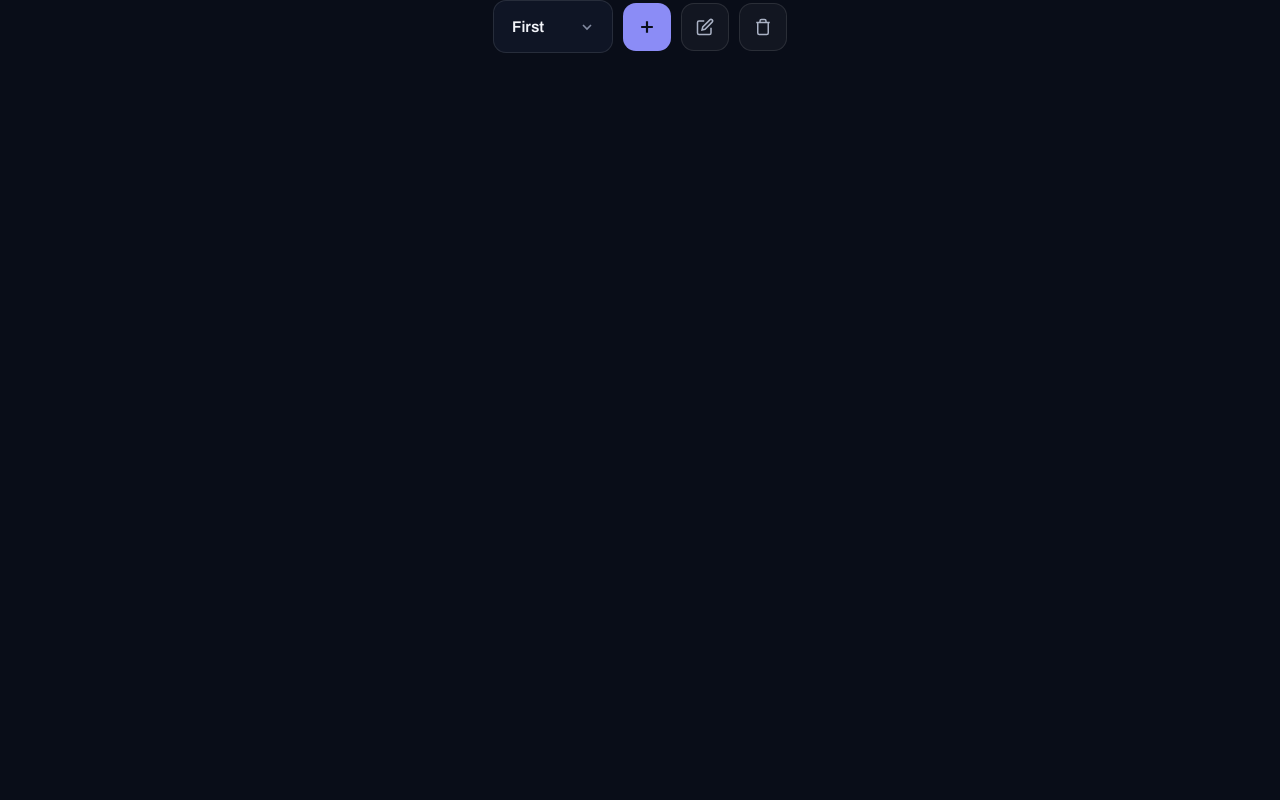
Test case: MatrixSelector › delete button opens confirmation modal when multiple matrices exist
Click the button with test id "delete-matrix-button".
click(763, 27)  # box x1=739 y1=3 x2=787 y2=51
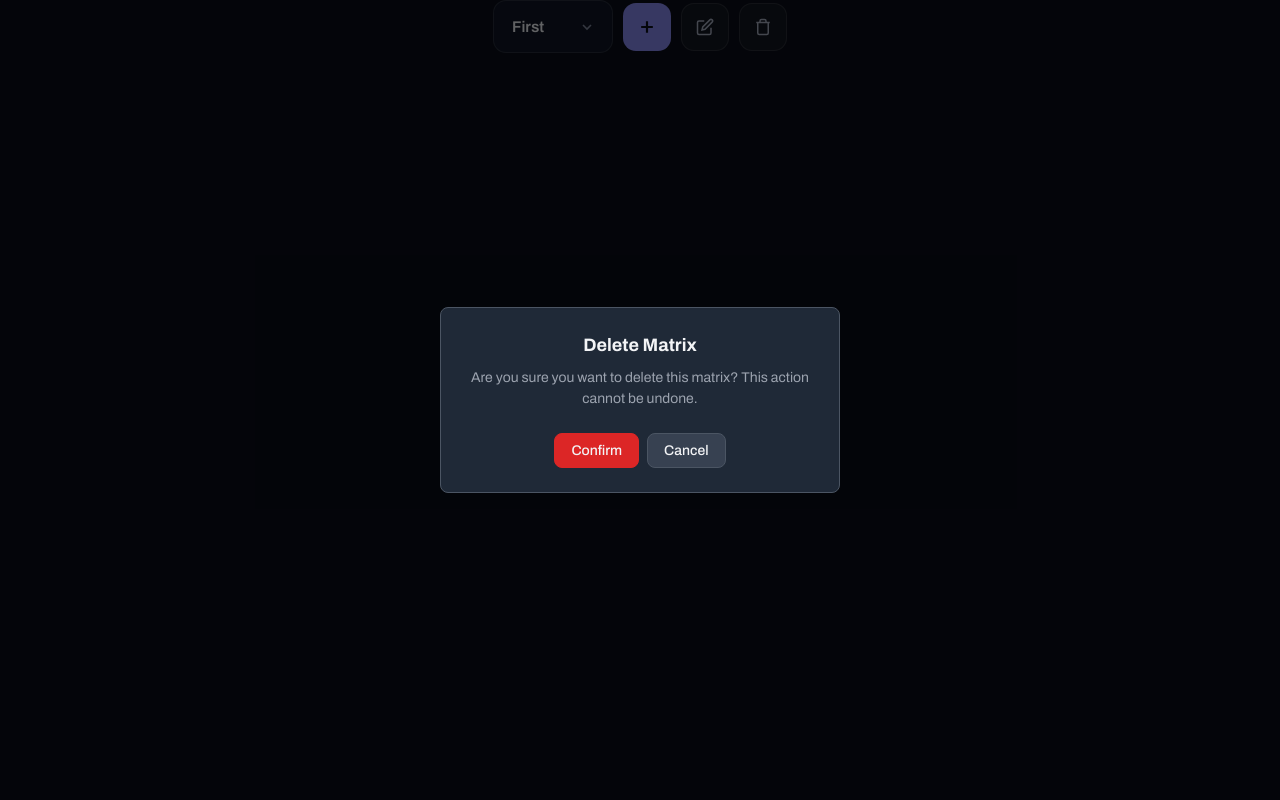
expect the element with test id "modal-overlay" is shown: met
